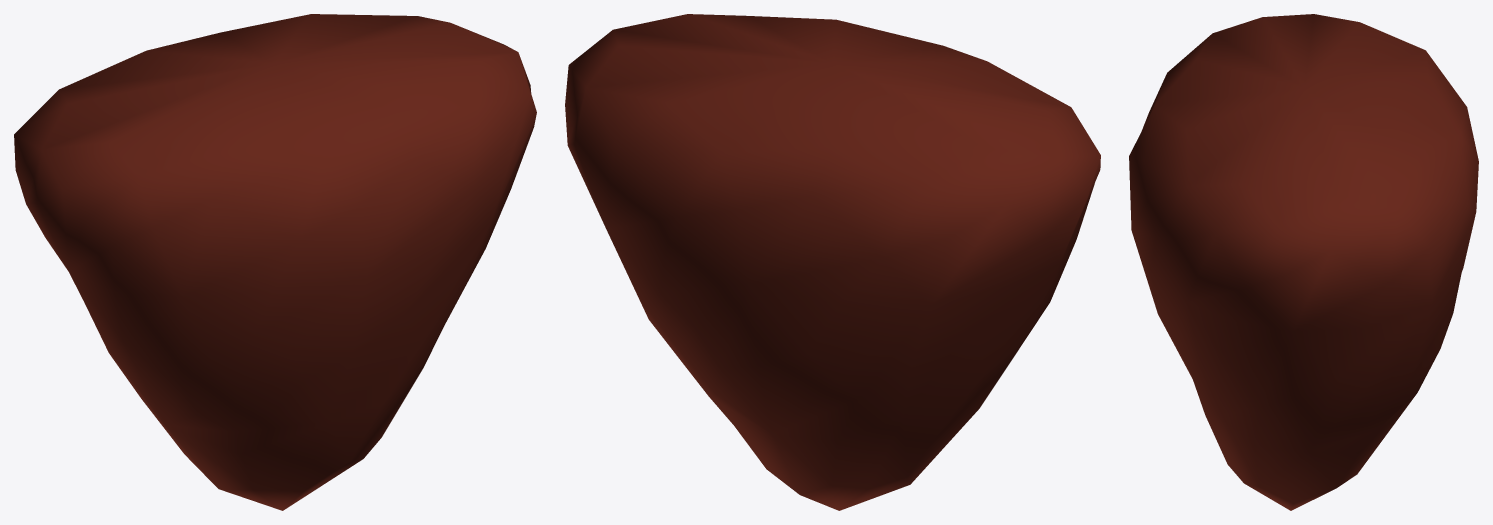
File: Rock2.fbx
3 views of the same model, side by side, from view 1: azimuth 30°, elevation 25°; view 2: azimuth 150°, elevation 25°; view 3: azimuth 270°, elevation 25° (orthographic). The views are drawn at different scales.
Visible parts, largest first — view 1: Object_3; view 2: Object_3; view 3: Object_3.
Part boxes in pixels (x1,y1,x2,y2): Object_3: (14, 14, 536, 510); Object_3: (565, 14, 1100, 510); Object_3: (1129, 14, 1478, 510).
Size of the model in its own units: 811 by 698 by 524.
